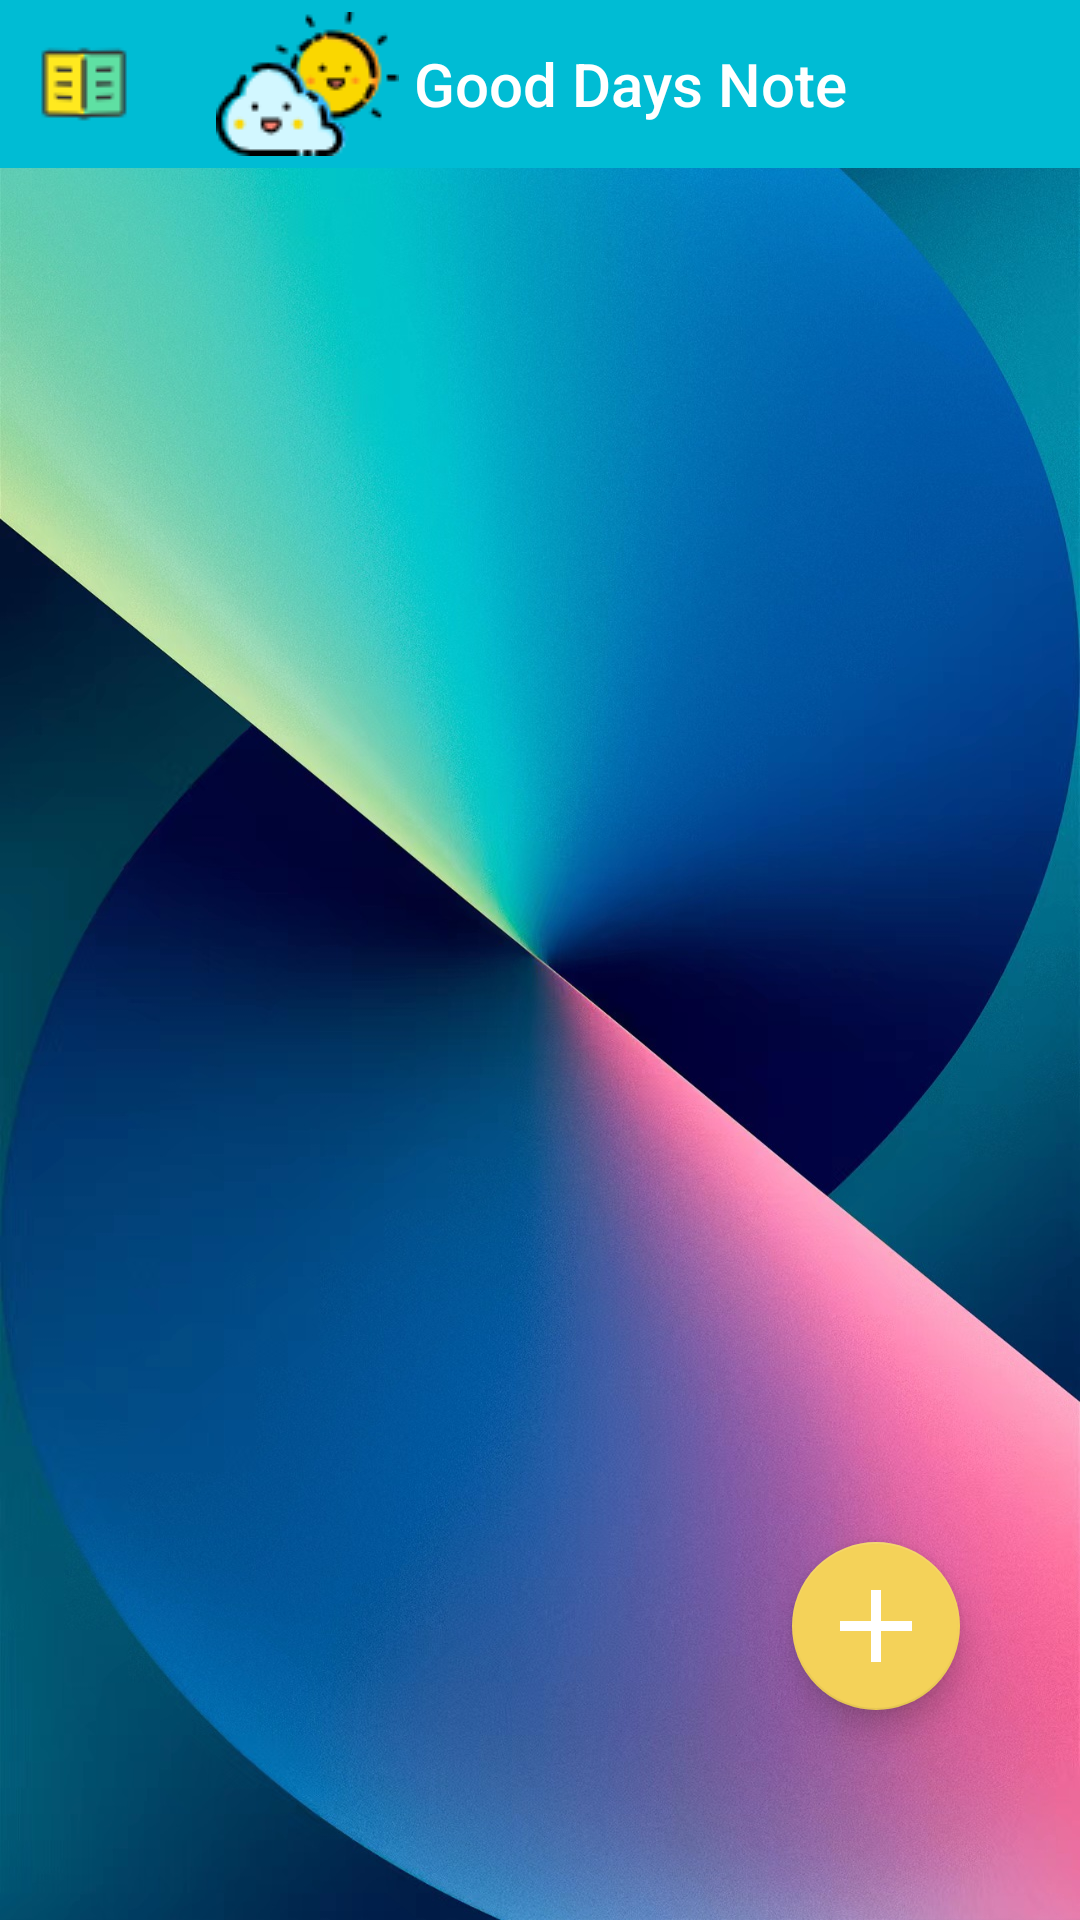

Where to tap for icons on this 1080px×1920px app screen, as (x,y):
add: (876,1626)
